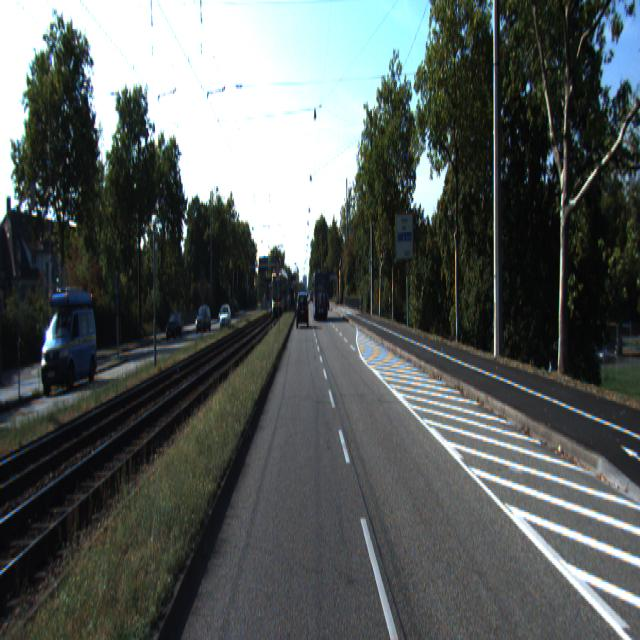Car: (297, 293, 308, 329), (219, 306, 232, 332)
DontCare: (162, 292, 212, 342), (260, 260, 290, 320)
Truck: (312, 270, 328, 320)
Van: (40, 302, 99, 398)
